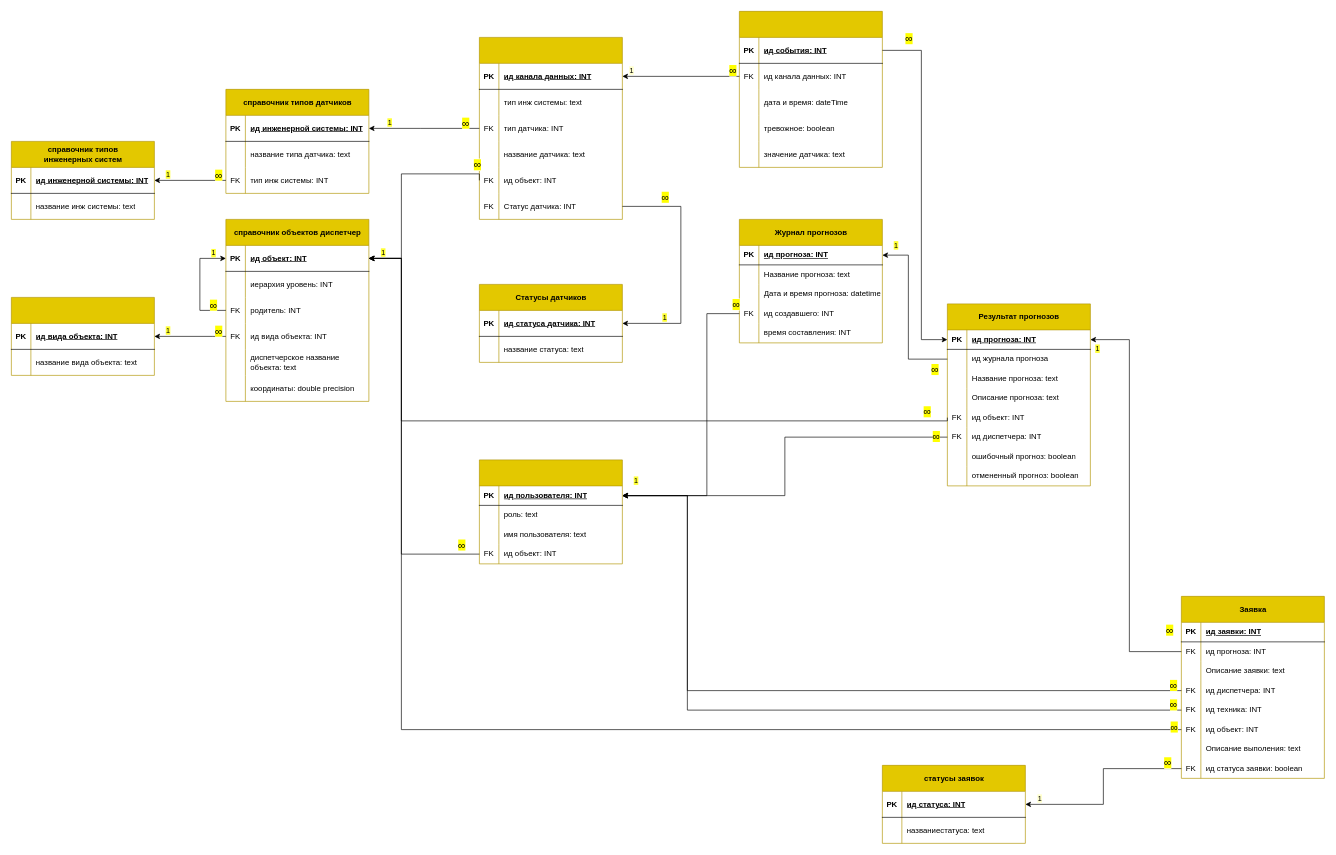
The diagram is 1336 pixels wide and 855 high, and some of its shapes have lost their labels. Each missing label, with the box of its shape:
журнал событий: (739, 11, 882, 167)
Пользователь: (479, 459, 622, 564)
справочник видов объектов: (11, 297, 154, 375)
справочник каналов датчиков: (479, 37, 622, 219)
